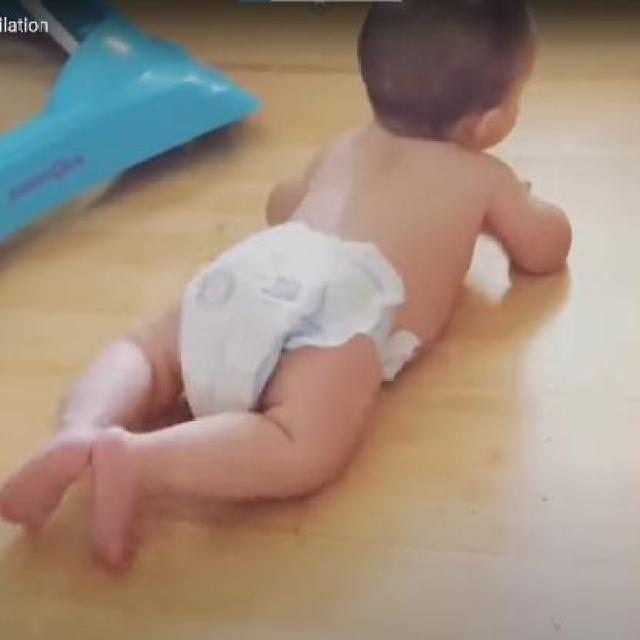baby: (0, 0, 576, 568)
